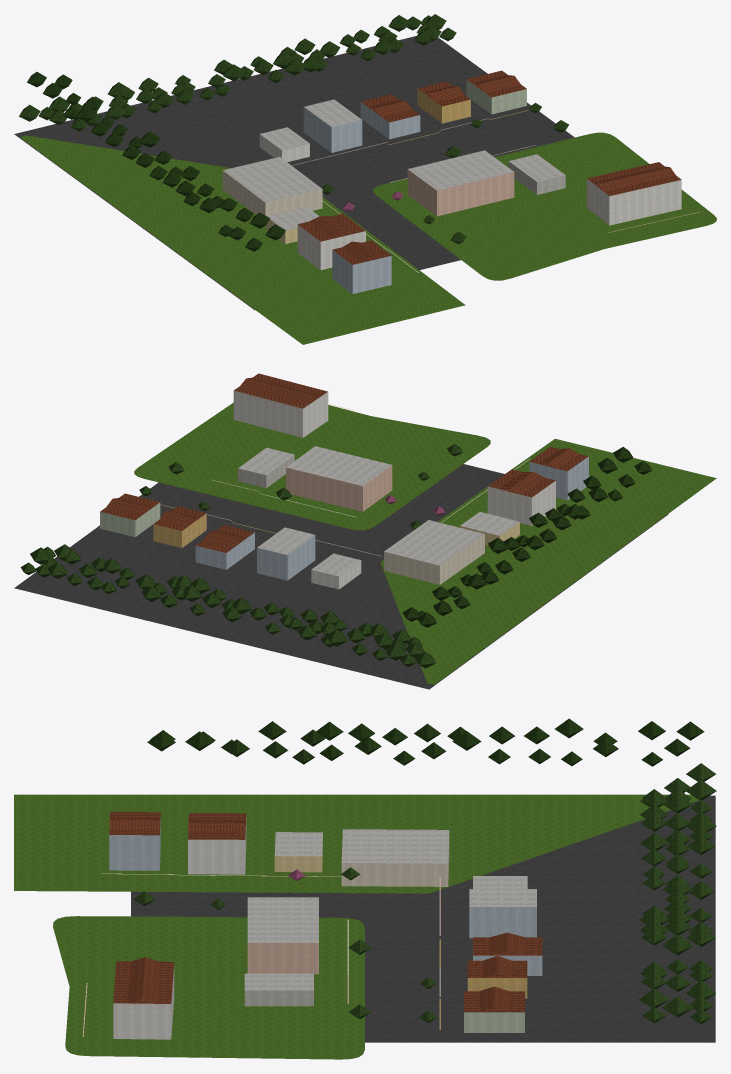
Rendered from cidade_S00_07_lod.gltf.
The picture shows the model from 3 angles, top to bottom: view 1: azimuth 30°, elevation 25°; view 2: azimuth 150°, elevation 25°; view 3: azimuth 270°, elevation 25°; orthographic projection. The views are drawn at different scales.
Parts seen in each view (by area): view 1: S00_07_Chao_LOD2, S00_07_Edificios_LOD1, S00_07_Vegetacao_LOD2, S00_07_Silhueta_LOD2; view 2: S00_07_Chao_LOD2, S00_07_Edificios_LOD1, S00_07_Vegetacao_LOD2, S00_07_Silhueta_LOD2; view 3: S00_07_Chao_LOD2, S00_07_Edificios_LOD1, S00_07_Vegetacao_LOD2, S00_07_Silhueta_LOD2.
Part boxes in pixels (x1=…): S00_07_Chao_LOD2: x1=14, y1=36, x2=716, y2=344; S00_07_Edificios_LOD1: x1=222, y1=75, x2=700, y2=293; S00_07_Vegetacao_LOD2: x1=19, y1=14, x2=568, y2=251; S00_07_Silhueta_LOD2: x1=297, y1=70, x2=681, y2=293; S00_07_Chao_LOD2: x1=14, y1=402, x2=716, y2=689; S00_07_Edificios_LOD1: x1=100, y1=377, x2=588, y2=589; S00_07_Vegetacao_LOD2: x1=20, y1=444, x2=651, y2=668; S00_07_Silhueta_LOD2: x1=100, y1=373, x2=588, y2=568; S00_07_Chao_LOD2: x1=14, y1=794, x2=715, y2=1059; S00_07_Edificios_LOD1: x1=82, y1=817, x2=542, y2=1039; S00_07_Vegetacao_LOD2: x1=133, y1=718, x2=716, y2=1023; S00_07_Silhueta_LOD2: x1=109, y1=812, x2=542, y2=1039.
Size of the model in its own units: 107 by 15.95 by 120.
Materials: 16 (16 with a texture image).
